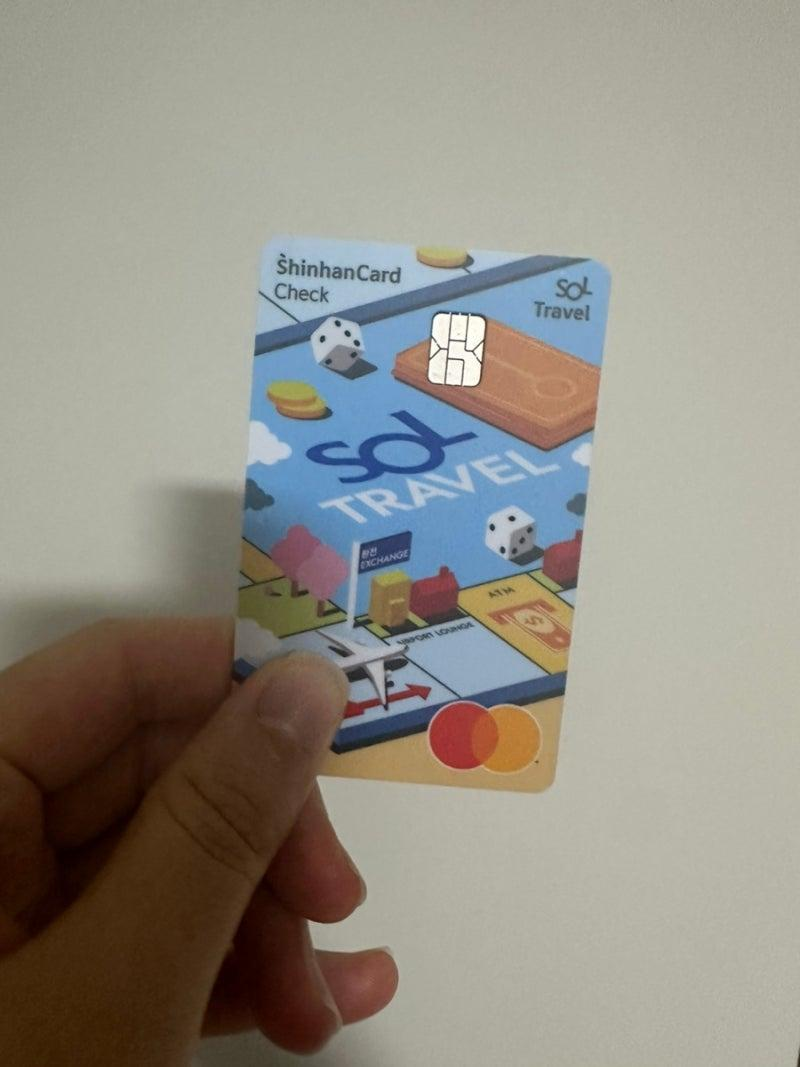Credit_card: (233, 239, 609, 792)
